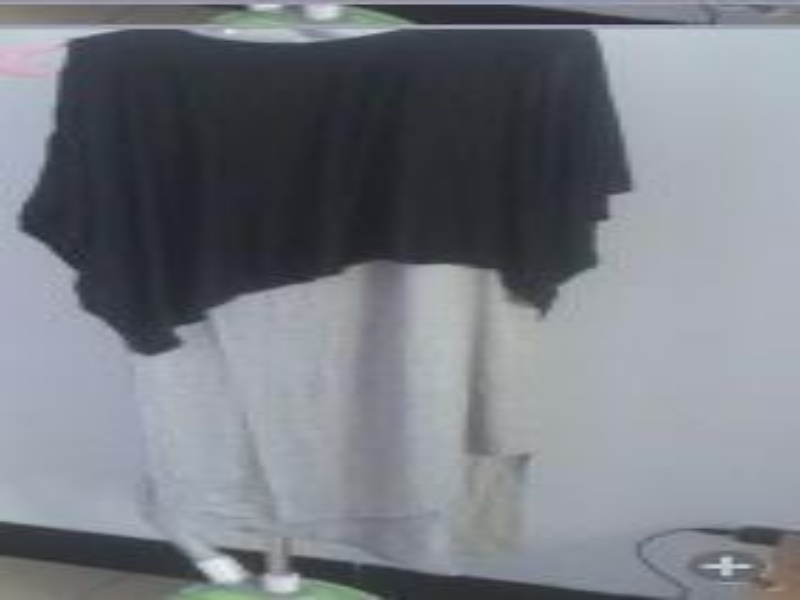vest: (11, 29, 642, 360)
vest_dress: (90, 29, 575, 582)
